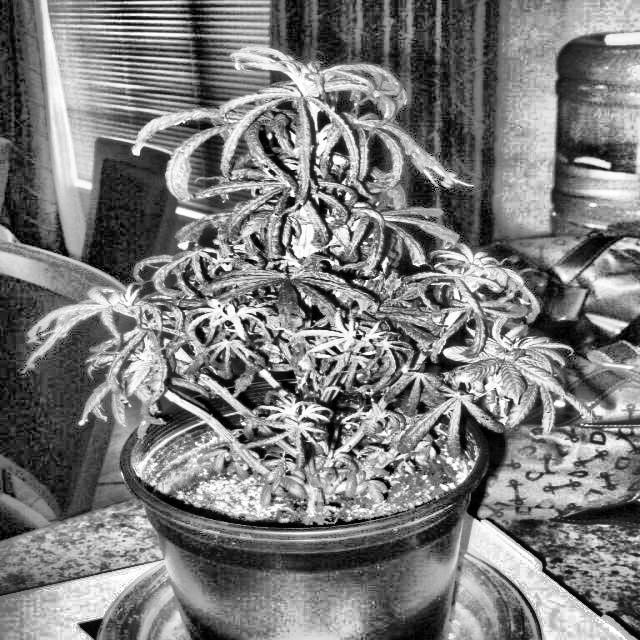plants: (41, 53, 568, 639)
